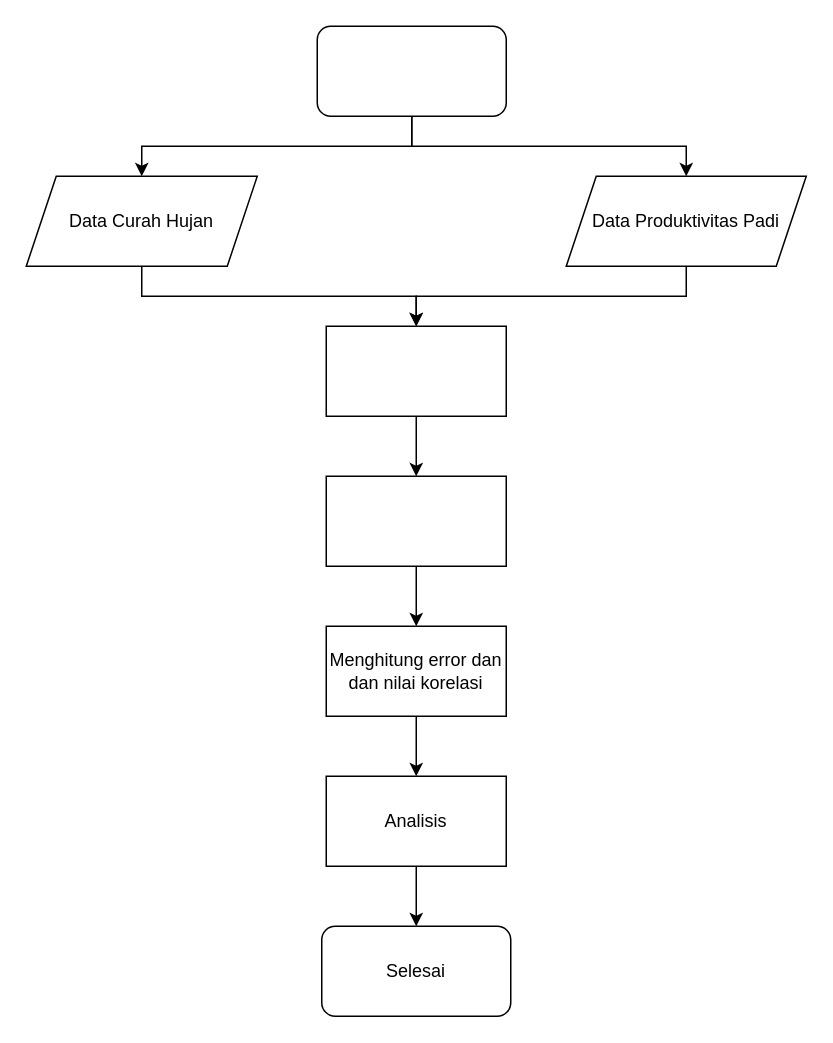
Image size: 833x1043. Some labels were removed from this diagram. The shapes that lost their labels are listed below. From the top down, each one's centre as x and y in pixels, then its label:
At [411,70]: "Mulai".
At [415,370]: "Uji Normalitas Data".
At [415,520]: "Membuat persamaan regresi kuadratik".
